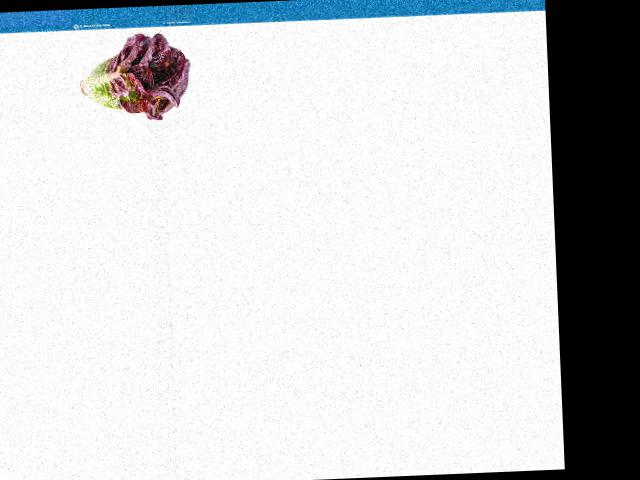lettuce: (77, 31, 190, 120)
